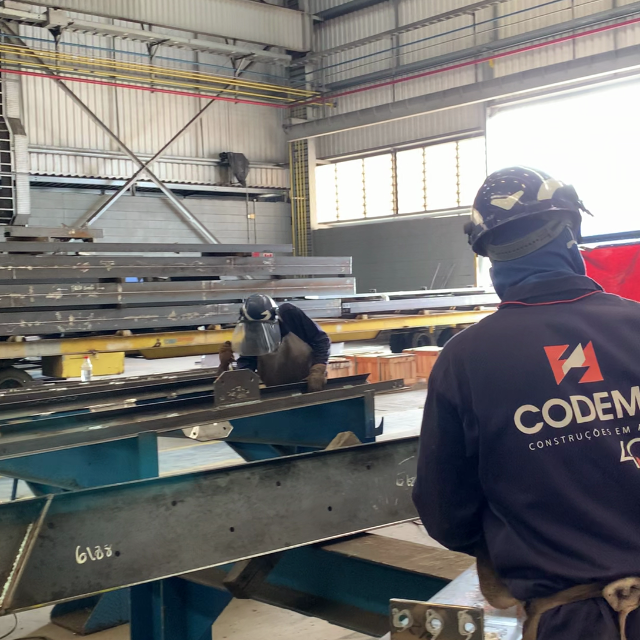face-shield: (229, 322, 283, 358)
glove: (303, 364, 330, 392)
helmet: (472, 167, 581, 239), (237, 293, 279, 324)
person: (410, 163, 639, 640), (214, 293, 332, 392)
